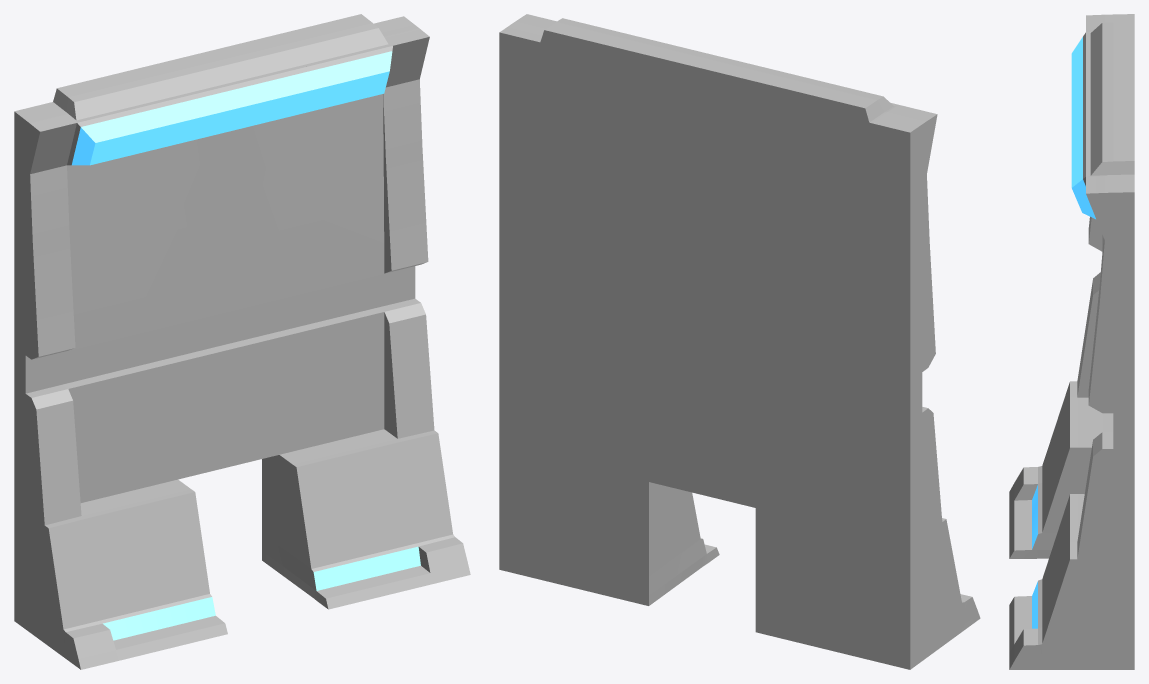
The model's file is T2_WallHole.fbx.
3 renders of one model, left to right at view 1: azimuth 30°, elevation 25°; view 2: azimuth 150°, elevation 25°; view 3: azimuth 270°, elevation 25°, orthographic. The views are drawn at different scales.
Visible parts, largest first — view 1: T2_Wall, T2_WallPillars, WallLight; view 2: T2_Wall, T2_WallPillars; view 3: T2_Wall, T2_WallPillars, WallLight.
Boxes of the visible parts, x1,y1,x2,y2 form: T2_Wall: (14,14,470,669); T2_WallPillars: (28,79,434,525); WallLight: (67,46,392,165); T2_Wall: (499,14,980,669); T2_WallPillars: (925,178,942,531); T2_Wall: (1009,14,1134,669); T2_WallPillars: (1077,216,1107,559); WallLight: (1071,32,1095,219).
Size of the model in its own units: 200 by 256 by 59.36.
